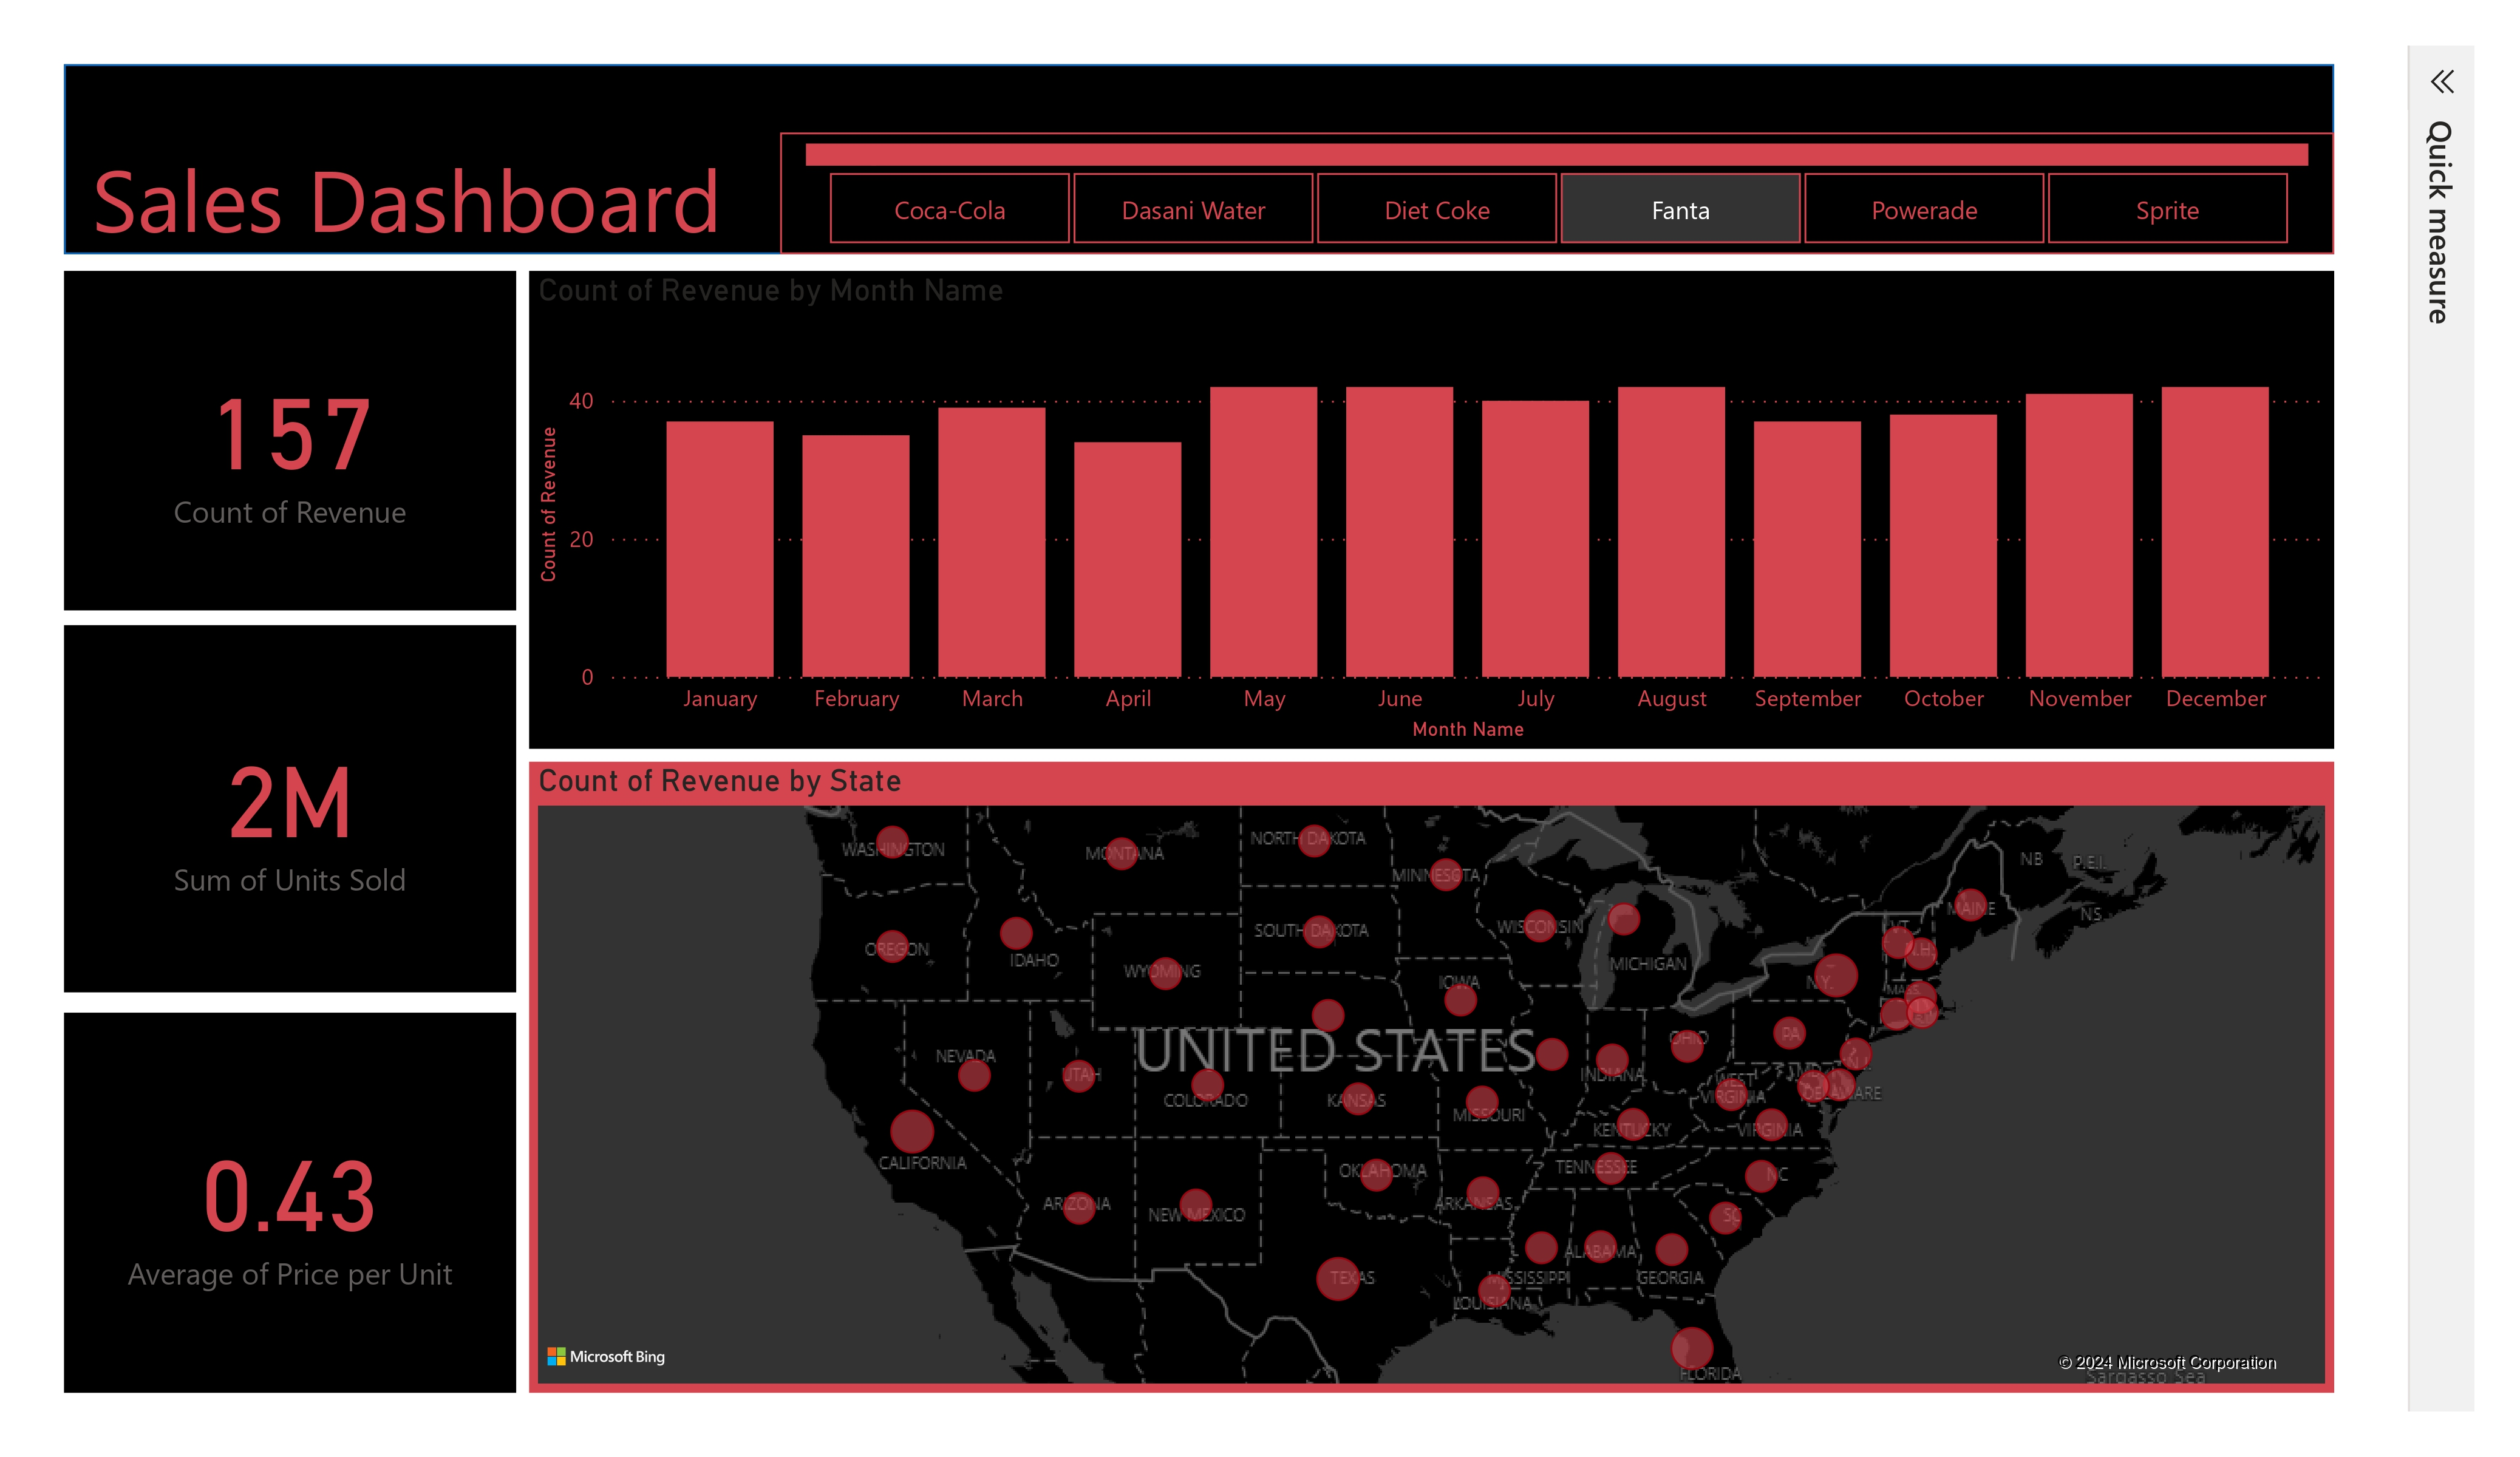

What the dashboard file says about the page in this screenshot:
{"tool":"powerbi","page":{"name":"Page 1","canvas":[1280,720],"ordinal":0},"visuals":[{"type":"shape","box":[10,0,1230,102.9],"z":0},{"type":"card","fields":{"Values":["Count(Data.Revenue)"]},"box":[10,111.9,244.8,183.9],"z":1000},{"type":"card","fields":{"Values":["Avg(Data.Price per Unit)"]},"box":[10,513.6,244.8,206.8],"z":2000},{"type":"card","fields":{"Values":["Sum(Data.Units Sold)"]},"box":[10,303.8,244.8,198.8],"z":3000},{"type":"columnChart","fields":{"Category":["Data.Month Name"],"Y":["Count(Data.Revenue)"]},"box":[261.8,111.9,978.2,258.8],"z":4000},{"type":"map","fields":{"Category":["Data.State"],"Size":["CountNonNull(Data.Revenue)"]},"box":[261.8,377.7,978.2,342.7],"z":5000},{"type":"slicer","fields":{"Values":["Data.Beverage Brand"]},"box":[397.7,37,842.3,65.9],"z":6000}]}

Visuals, with their boxes on the page's 1280x720 design canvas (x1, y1, x2, y2). These are canvas units, not pixel positions in the 2520x1457 screenshot, which may show the page scaled, cropped or inside an application window:
shape: [left=10, top=0, right=1240, bottom=103]
card - Count(Data.Revenue): [left=10, top=112, right=255, bottom=296]
card - Avg(Data.Price per Unit): [left=10, top=514, right=255, bottom=720]
card - Sum(Data.Units Sold): [left=10, top=304, right=255, bottom=503]
columnChart - Data.Month Name x Count(Data.Revenue): [left=262, top=112, right=1240, bottom=371]
map - Data.State x CountNonNull(Data.Revenue): [left=262, top=378, right=1240, bottom=720]
slicer - Data.Beverage Brand: [left=398, top=37, right=1240, bottom=103]
